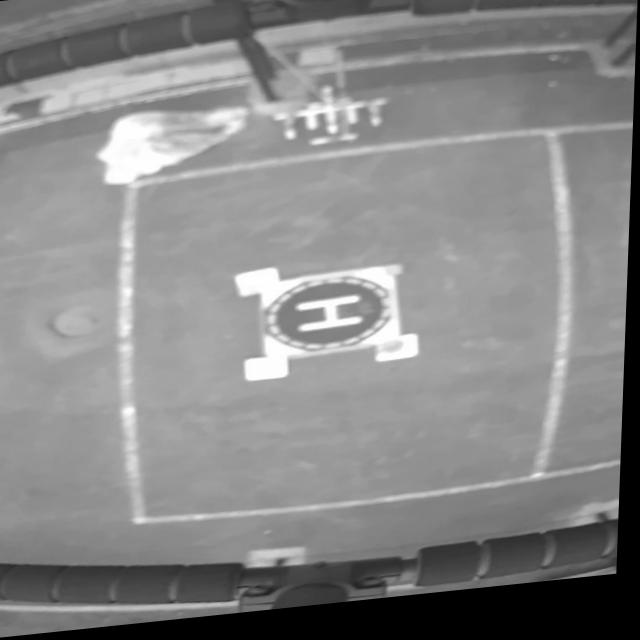Helipad: (299, 300, 369, 338)
